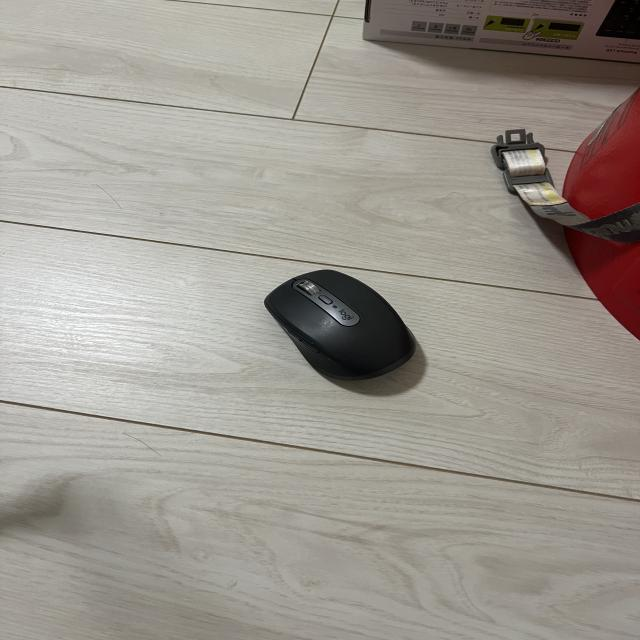mouse: (262, 270, 426, 383)
